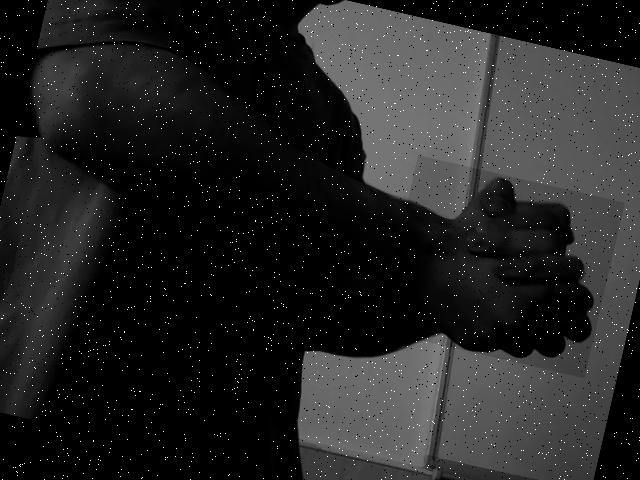friend: (389, 176, 595, 364)
